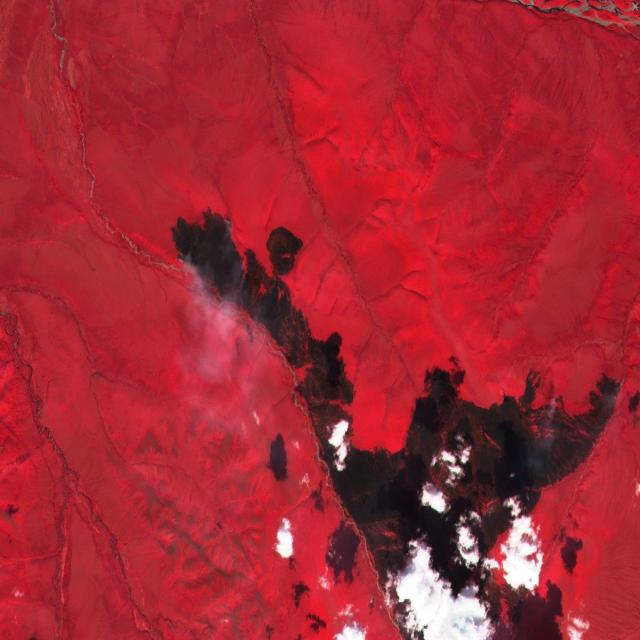fire: (170, 202, 254, 308)
